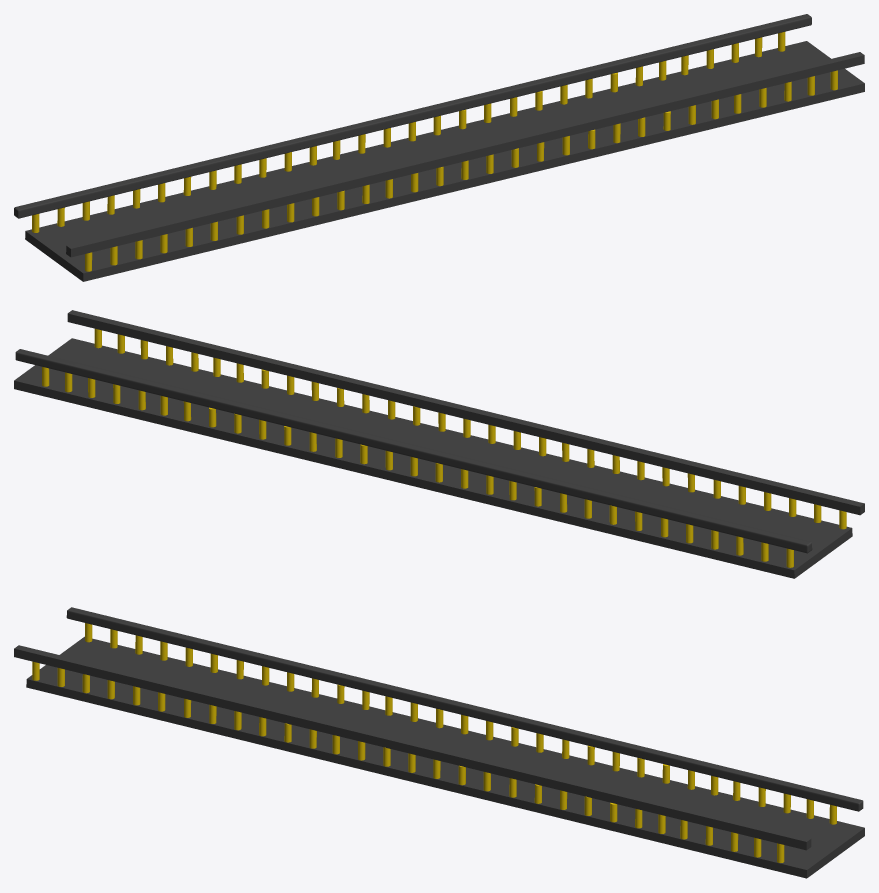
Rendered from Env_Bridge_Mo_Nov19.fbx.
The picture shows the model from 3 angles, top to bottom: view 1: azimuth 30°, elevation 25°; view 2: azimuth 150°, elevation 25°; view 3: azimuth 330°, elevation 25°; orthographic projection.
Visible parts, largest first — view 1: Ramp, RampHandle1, RampHandle2; view 2: Ramp, RampHandle1, RampHandle2; view 3: Ramp, RampHandle1, RampHandle2.
Part boxes in pixels (bbox=[...]): Ramp: bbox=[25, 41, 864, 281]; RampHandle1: bbox=[66, 52, 864, 257]; RampHandle2: bbox=[14, 14, 811, 218]; Ramp: bbox=[14, 338, 852, 578]; RampHandle1: bbox=[67, 310, 864, 515]; RampHandle2: bbox=[15, 349, 812, 553]; Ramp: bbox=[26, 636, 864, 878]; RampHandle1: bbox=[14, 645, 811, 850]; RampHandle2: bbox=[66, 607, 863, 811].
Bounding box in the file's own units: 97.93 × 4.32 × 12.41.
